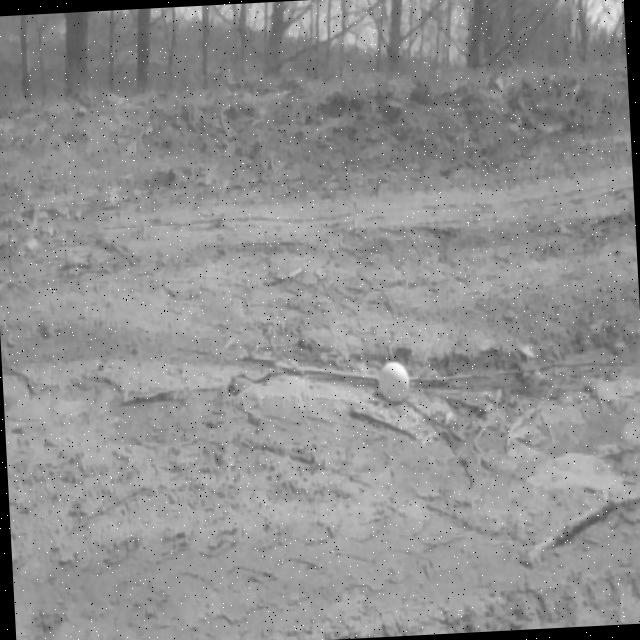ping-pong-ball: (380, 361, 410, 404)
